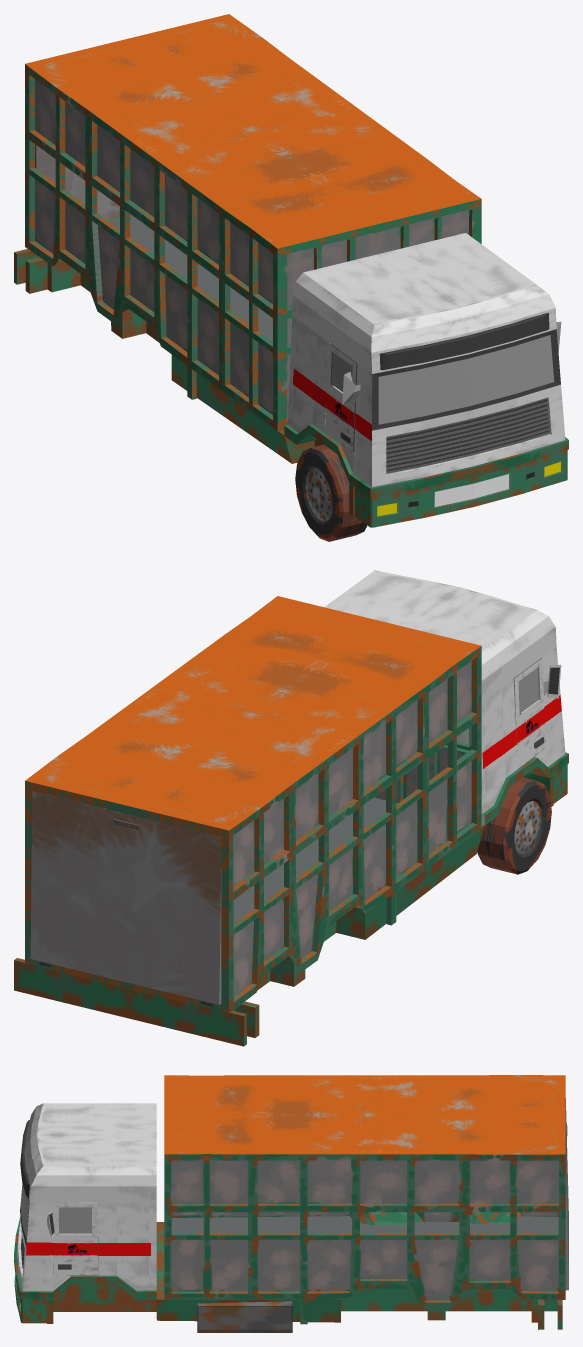
Rendered from Vehicle_Transport_Vehicle.fbx.
3 renders of one model, top to bottom at view 1: azimuth 30°, elevation 25°; view 2: azimuth 150°, elevation 25°; view 3: azimuth 270°, elevation 25°, orthographic. The views are drawn at different scales.
Visible parts, largest first — view 1: Cage, Truck_Body, Wheel, Door_R, Cage_Door; view 2: Cage, Cage_Door, Truck_Body, Wheel, Door_R; view 3: Cage, Truck_Body, Door_L, Cage_Door.
Part boxes in pixels (x1,y1,x2,y2): Cage: (25, 14, 481, 431); Truck_Body: (14, 233, 568, 527); Wheel: (295, 444, 367, 541); Door_R: (324, 343, 357, 453); Cage_Door: (36, 145, 119, 219); Cage: (25, 596, 481, 1013); Cage_Door: (30, 791, 221, 1004); Truck_Body: (14, 570, 568, 1046); Wheel: (477, 777, 551, 874); Door_R: (513, 658, 545, 768); Cage: (164, 1075, 565, 1324); Truck_Body: (14, 1103, 562, 1332); Door_L: (53, 1202, 97, 1275); Cage_Door: (565, 1098, 568, 1290).
Size of the model in its own units: 788 by 843 by 2074.
6 materials, 6 textured.
